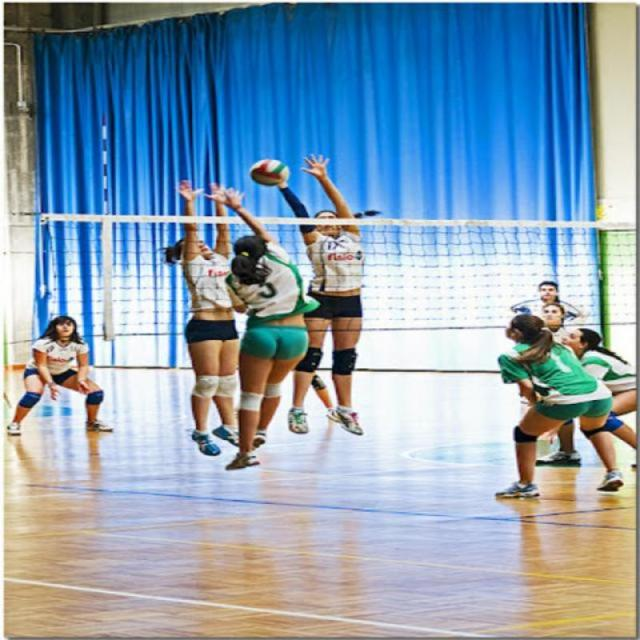volleyball: (245, 156, 294, 189)
